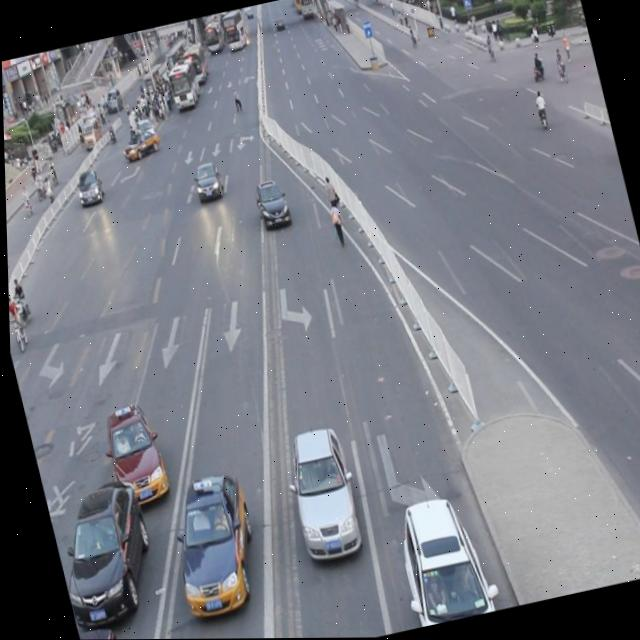car: (41, 472, 162, 630), (153, 463, 267, 625), (386, 487, 493, 628), (274, 419, 367, 568), (94, 397, 170, 510), (250, 173, 291, 233), (189, 158, 226, 207), (70, 168, 107, 210), (72, 620, 125, 640)
